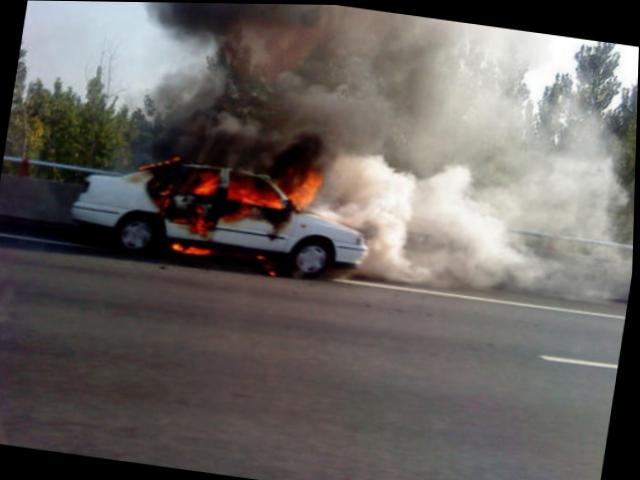fire: (122, 131, 327, 281)
